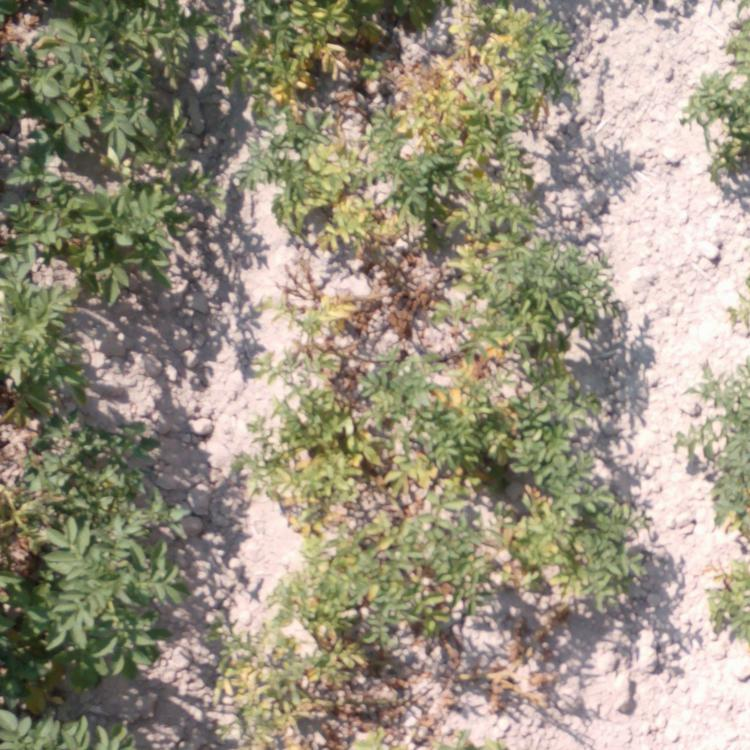healthy: (7, 439, 148, 744), (1, 4, 195, 161), (11, 170, 179, 290), (681, 354, 750, 637), (697, 12, 750, 178), (6, 302, 79, 421)
stressed: (259, 1, 429, 306), (253, 554, 430, 740), (448, 424, 611, 616), (255, 341, 421, 520), (454, 194, 595, 395), (444, 5, 562, 177)
